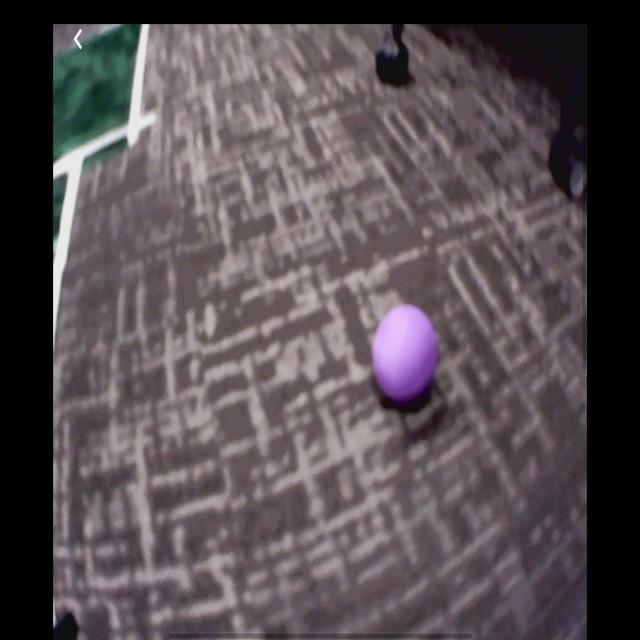ball: (372, 303, 441, 405)
